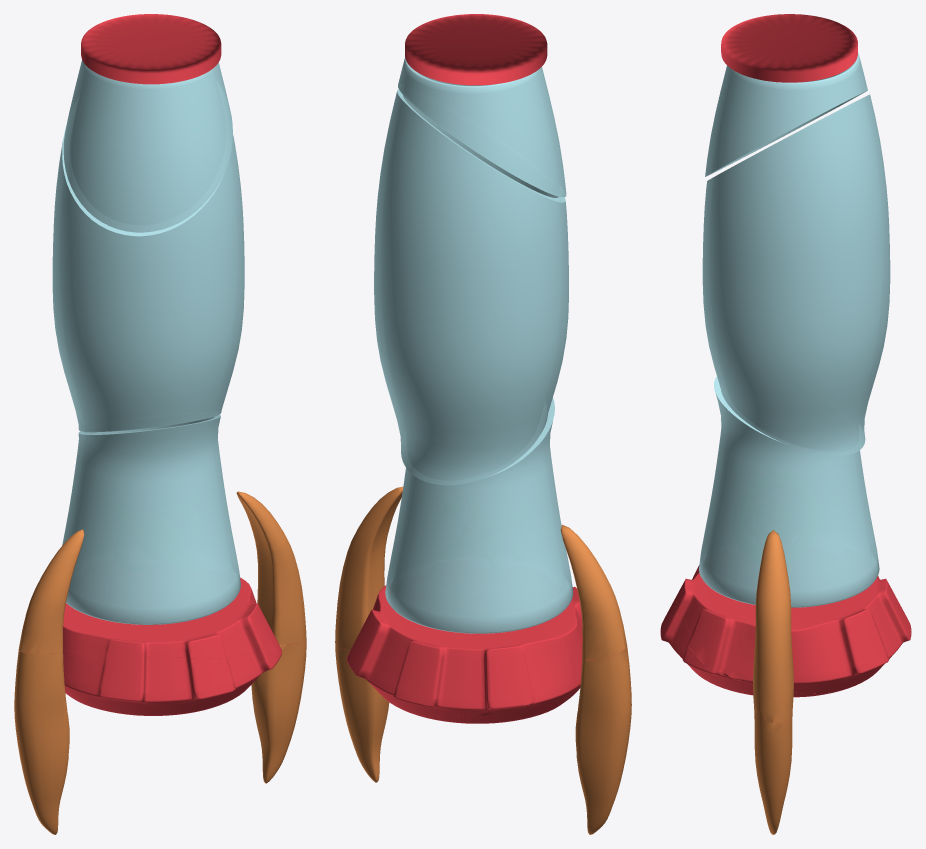
File: EASY_fixed_BLENDER.fbx
3 renders of one model, left to right at view 1: azimuth 30°, elevation 25°; view 2: azimuth 150°, elevation 25°; view 3: azimuth 270°, elevation 25°, orthographic. The views are drawn at different scales.
Parts seen in each view (by area): view 1: Middle_glass, top_glass, bottom_glass, Bottom_base, top_base; view 2: Middle_glass, top_base, bottom_glass, top_glass, Bottom_base; view 3: Middle_glass, bottom_glass, top_base, top_glass, Bottom_base.
Boxes of the visible parts, x1=… form: Middle_glass: x1=52, y1=125, x2=244, y2=432; top_glass: x1=63, y1=14, x2=232, y2=232; bottom_glass: x1=62, y1=415, x2=240, y2=624; Bottom_base: x1=14, y1=642, x2=306, y2=834; top_base: x1=18, y1=491, x2=306, y2=658; Middle_glass: x1=374, y1=89, x2=568, y2=485; top_base: x1=335, y1=486, x2=626, y2=716; bottom_glass: x1=385, y1=398, x2=573, y2=633; top_glass: x1=398, y1=14, x2=566, y2=197; Bottom_base: x1=335, y1=643, x2=631, y2=834; Middle_glass: x1=702, y1=94, x2=890, y2=455; bottom_glass: x1=699, y1=376, x2=879, y2=607; top_base: x1=675, y1=530, x2=911, y2=723; top_glass: x1=705, y1=14, x2=867, y2=176; Bottom_base: x1=660, y1=570, x2=839, y2=834.
Bounding box in the file's own units: 168 × 425 × 130.
